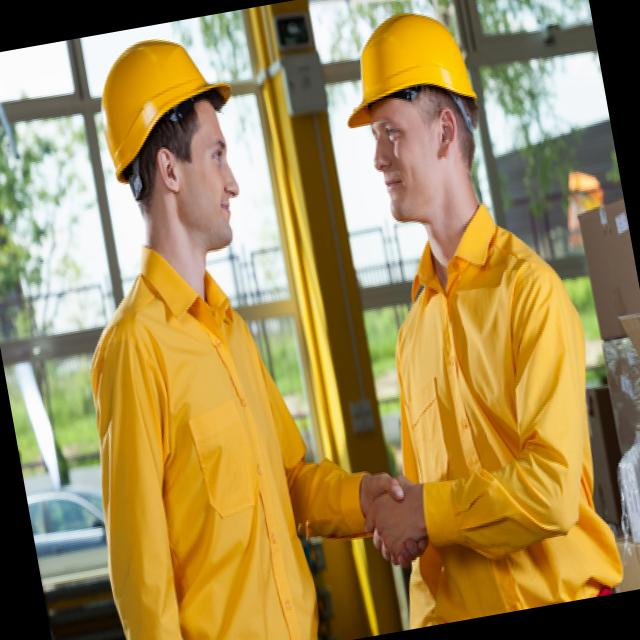helmet: (85, 35, 236, 188), (325, 5, 480, 136)
no-goggles: (358, 106, 432, 165), (162, 140, 240, 190)
no-vest: (328, 193, 636, 626), (60, 243, 350, 640)
